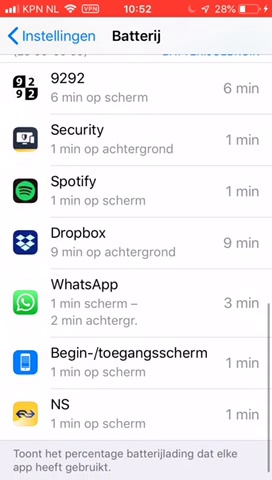app: (2, 270, 266, 334), (6, 68, 269, 109), (4, 117, 267, 158), (4, 168, 267, 209), (5, 219, 268, 260), (1, 342, 263, 383), (1, 392, 263, 433)
